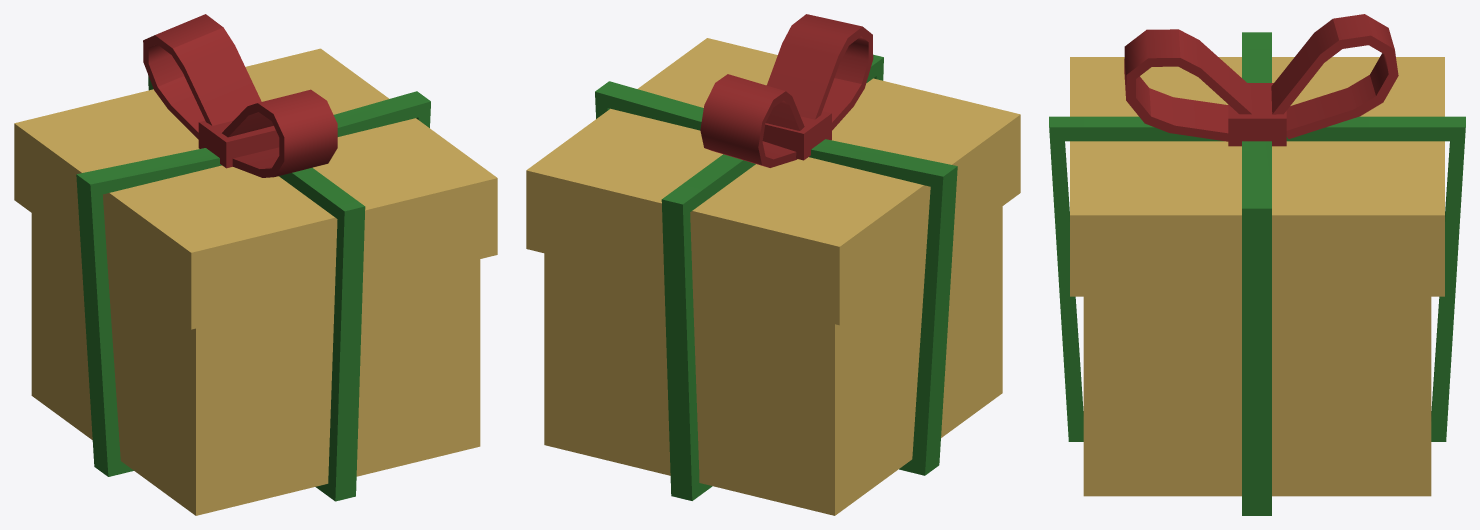
File: Gift.fbx
3 views of the same model, side by side, from view 1: azimuth 30°, elevation 25°; view 2: azimuth 150°, elevation 25°; view 3: azimuth 270°, elevation 25° (orthographic). The views are drawn at different scales.
Visible parts, largest first — view 1: pCube1, pCube2, pCube3, pCube5, pCube4; view 2: pCube1, pCube2, pCube5, pCube3, pCube4; view 3: pCube1, pCube2, pCube5, pCube3, pCube4.
Part boxes in pixels (x1=…): pCube1: x1=14, y1=48, x2=497, y2=515; pCube2: x1=76, y1=75, x2=430, y2=501; pCube3: x1=143, y1=14, x2=261, y2=139; pCube5: x1=222, y1=89, x2=337, y2=177; pCube4: x1=198, y1=120, x2=279, y2=168; pCube1: x1=526, y1=38, x2=1020, y2=515; pCube2: x1=595, y1=54, x2=957, y2=500; pCube5: x1=766, y1=14, x2=873, y2=130; pCube3: x1=700, y1=74, x2=804, y2=167; pCube4: x1=762, y1=111, x2=831, y2=160; pCube1: x1=1070, y1=57, x2=1444, y2=496; pCube2: x1=1049, y1=32, x2=1465, y2=515; pCube5: x1=1124, y1=29, x2=1251, y2=141; pCube3: x1=1271, y1=14, x2=1398, y2=138; pCube4: x1=1228, y1=83, x2=1286, y2=146.
Size of the model in its own units: 3.06 by 3.26 by 3.06.
